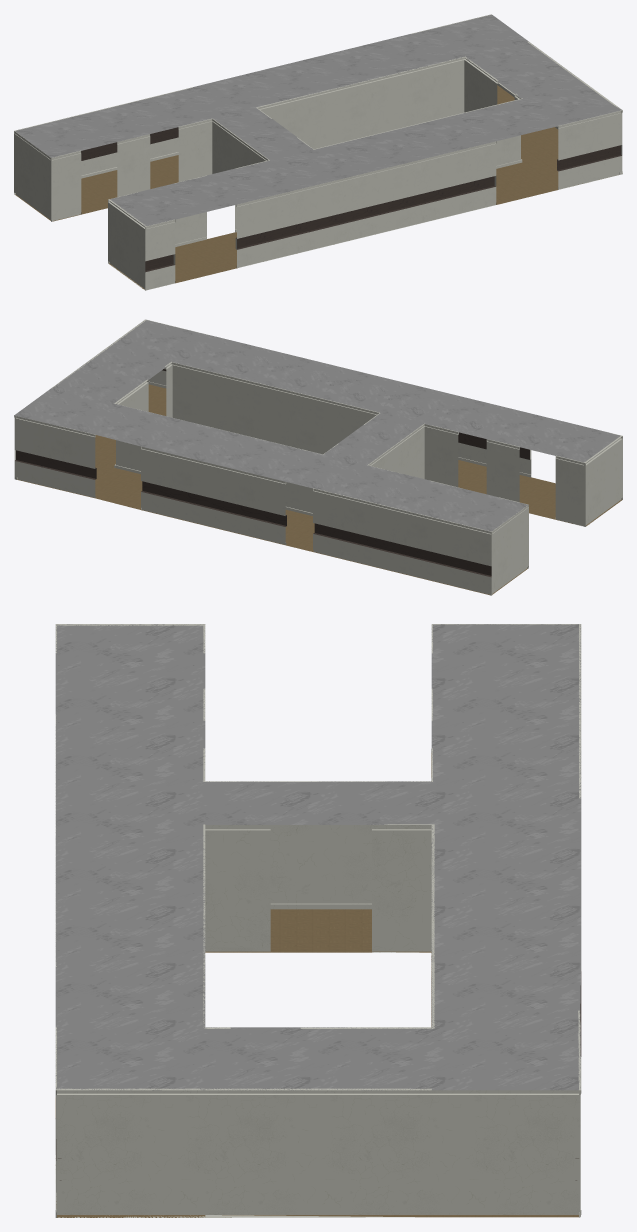
The model's file is halls.fbx.
3 views of the same model, one above another, from view 1: azimuth 30°, elevation 25°; view 2: azimuth 150°, elevation 25°; view 3: azimuth 270°, elevation 25° (orthographic). The views are drawn at different scales.
Parts seen in each view (by area): view 1: hallways; view 2: hallways; view 3: hallways.
Part boxes in pixels (bbox=[...]): hallways: bbox=[14, 14, 622, 290]; hallways: bbox=[14, 319, 622, 595]; hallways: bbox=[55, 624, 581, 1217].
Bounding box in the file's own units: 46.18 × 5.93 × 21.99.
Materials: 4 (4 with a texture image).
